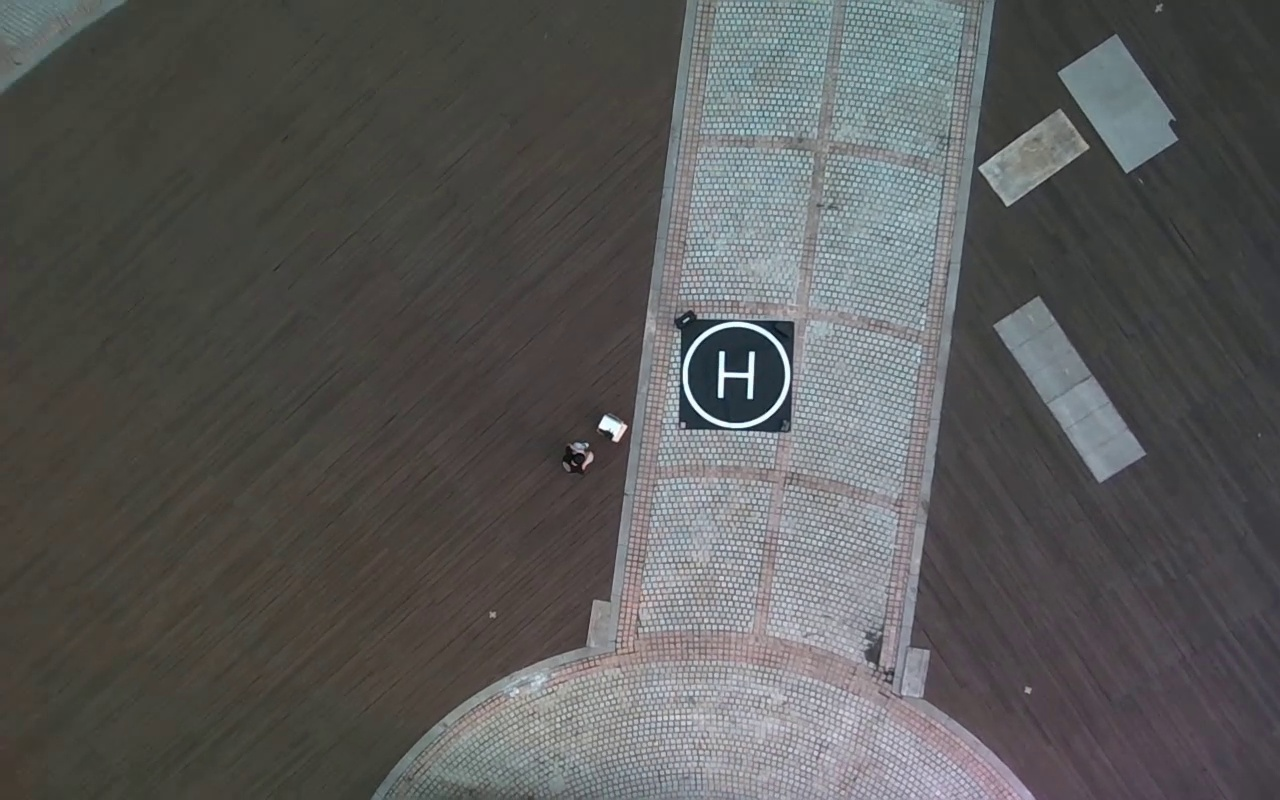H: (717, 349, 755, 398)
heliport: (681, 319, 792, 430)
